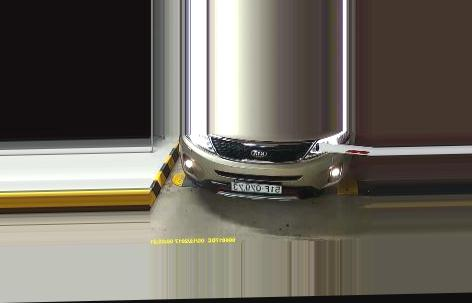License_Plate: (229, 180, 284, 196)
